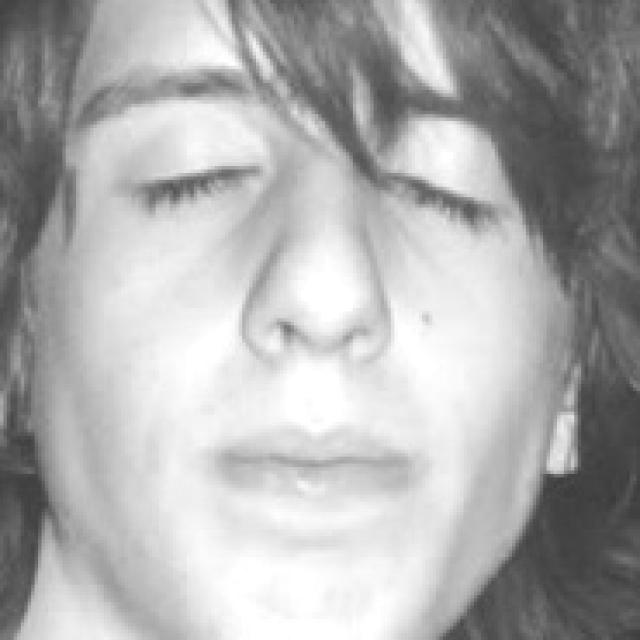real: (36, 78, 594, 638), (118, 124, 514, 258)
